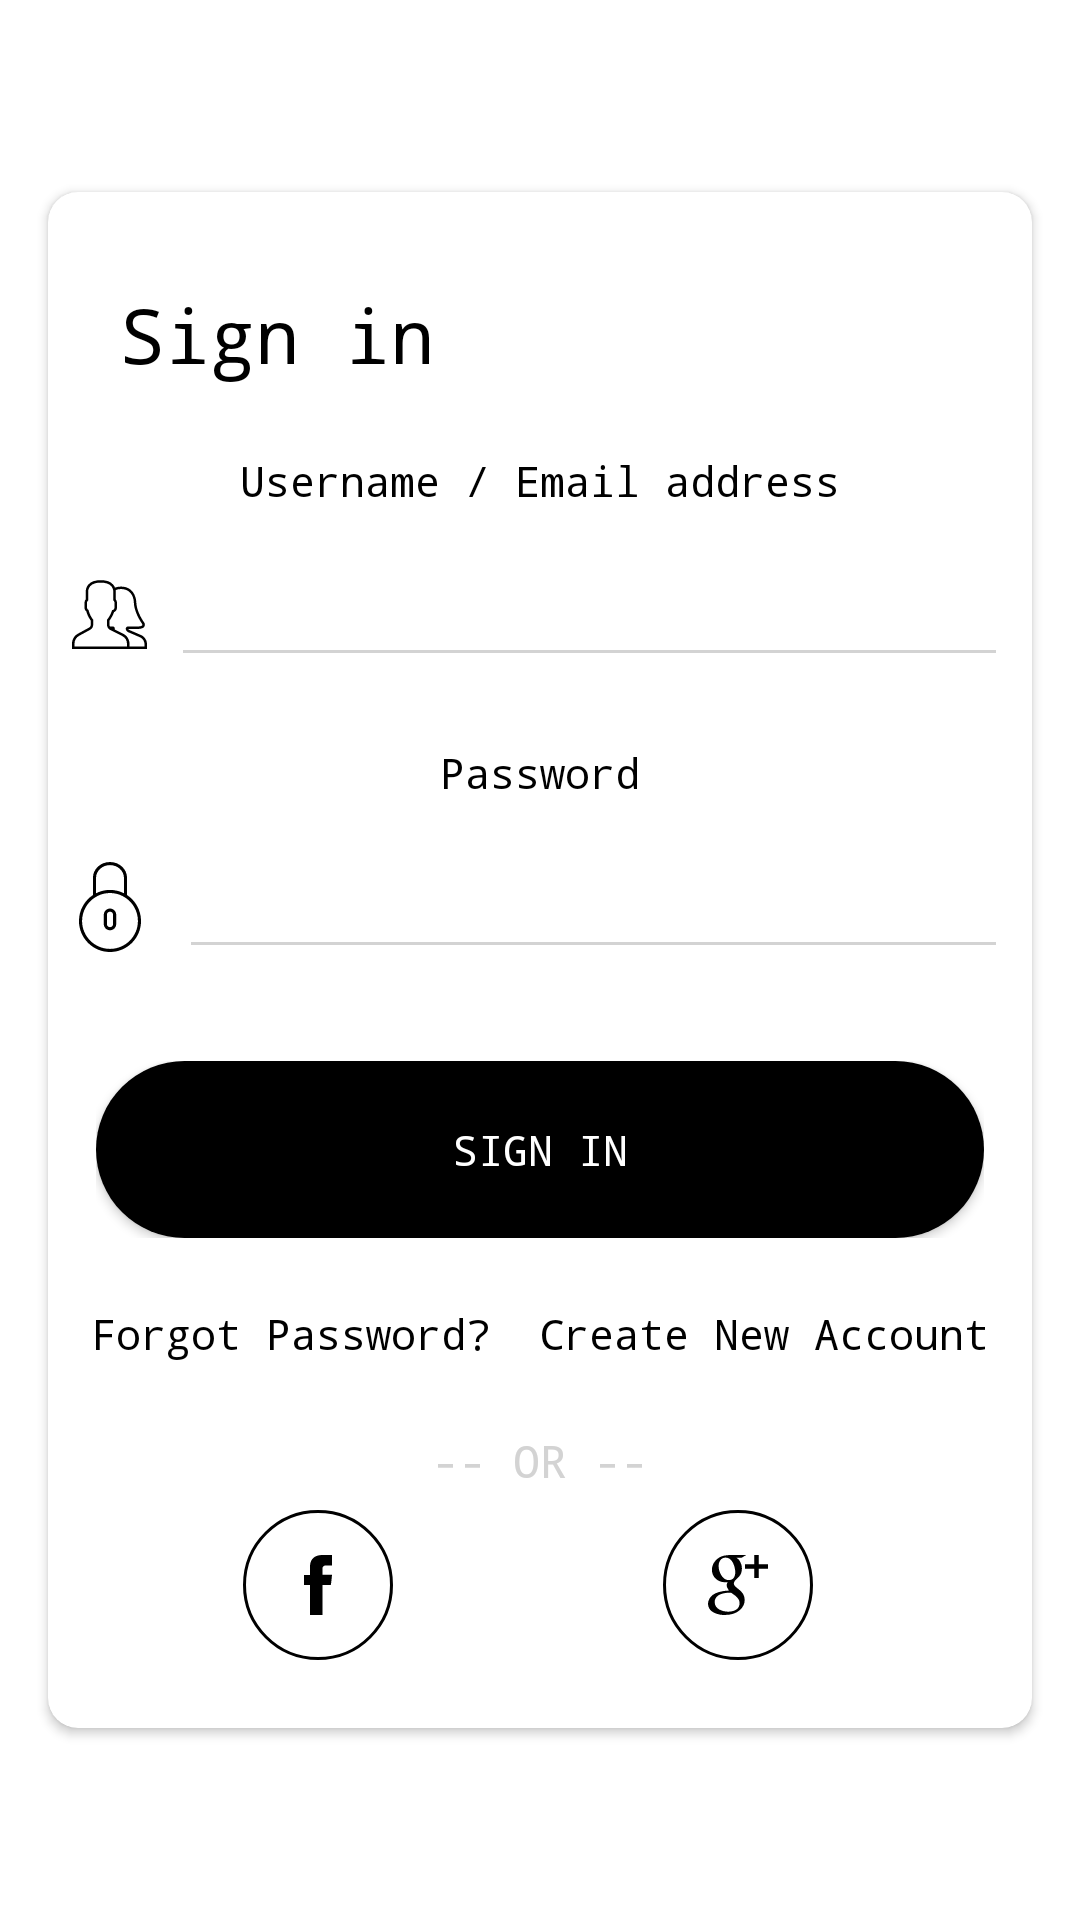

Icons on this 1080*1920 Android screen, each with the point to tap as (x,y):
locked: (110,907)
